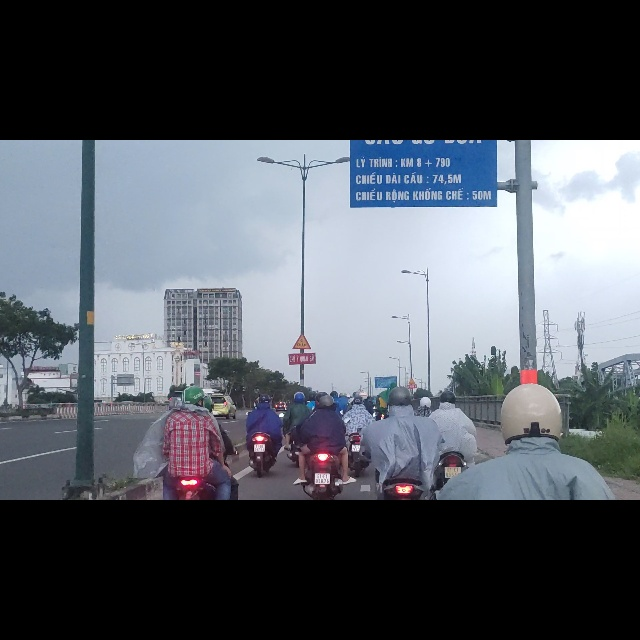bien_chi_dan: (292, 343, 312, 373)
